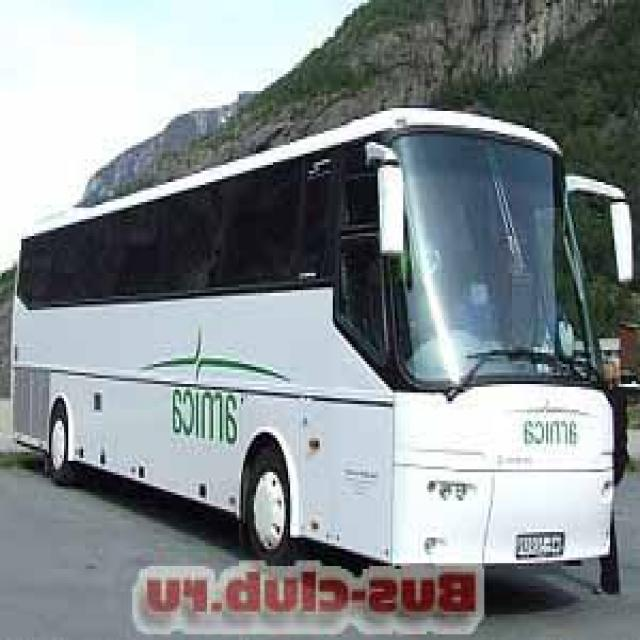bus: (6, 105, 638, 586)
